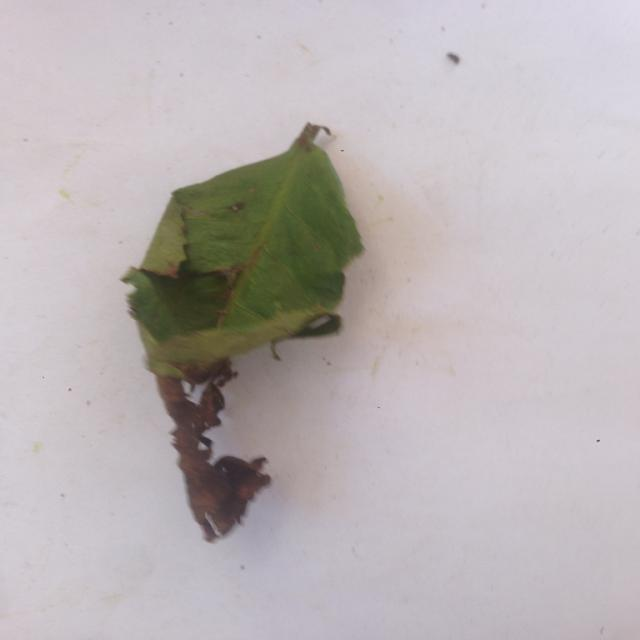Brown Blight: (106, 107, 376, 550)
